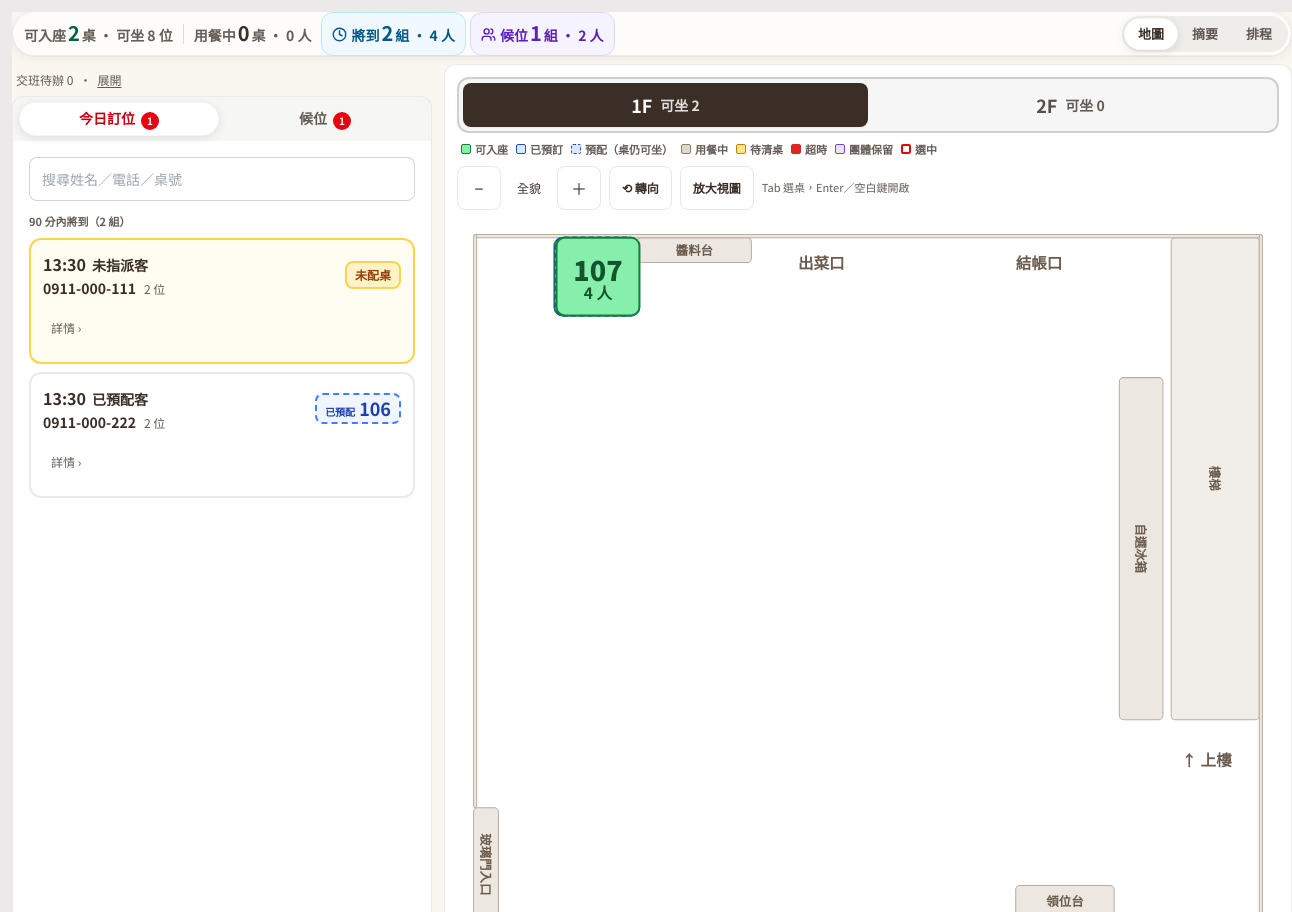
it: 現場頁 × 角色：kitchen 無任何寫入入口、其他三角色入口不變 › kitchen：沒有帶位籤與確認入座、點空桌不會累積已選桌；今日訂位無新增／指派；候位無寫入鈕；無編輯佈局
Click the button "候位 1 組 · 2 人" at point(542, 34), box [470,12,615,56]
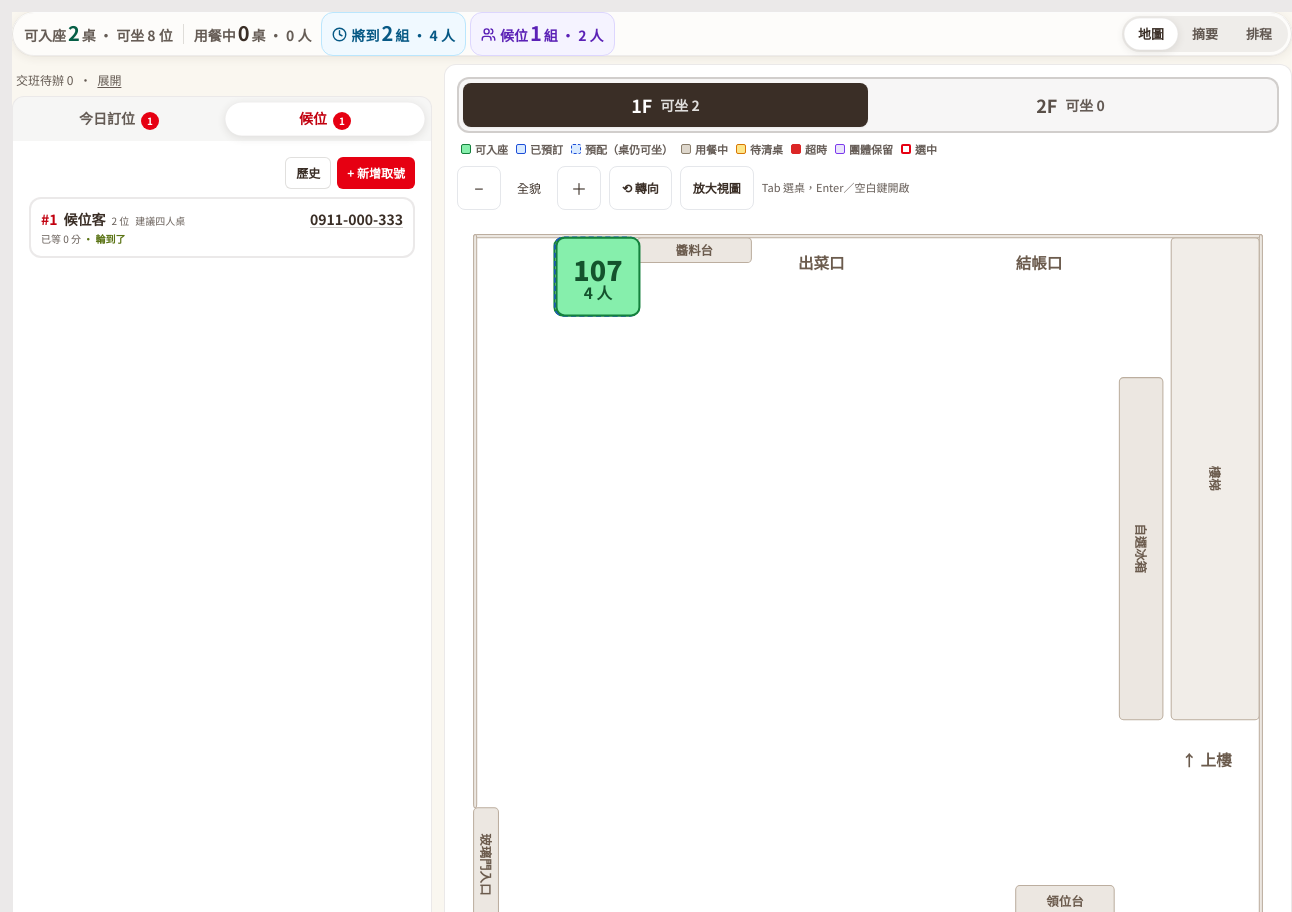
Now the text "候位客" is shown, box [64,209,106,229]
Now the button "+ 新增取號" is disabled, box [337,157,415,189]
